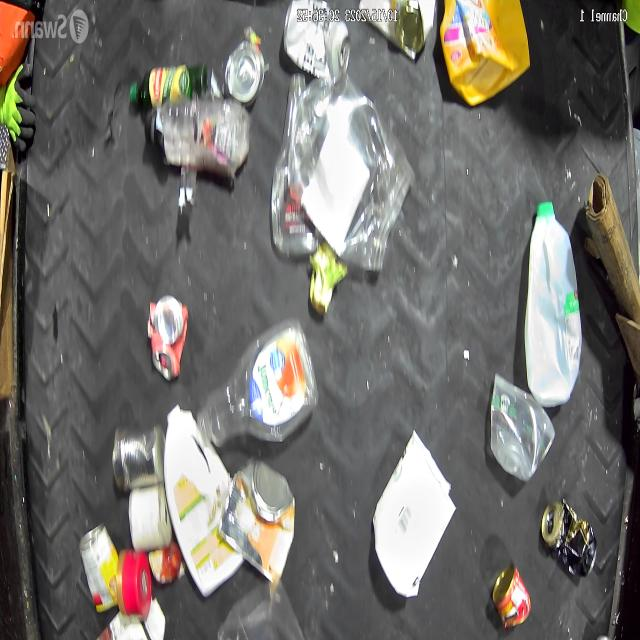can: (214, 457, 297, 592), (282, 0, 352, 90), (536, 500, 598, 588), (82, 520, 126, 621), (147, 282, 190, 385), (107, 420, 162, 500), (219, 22, 261, 120), (490, 560, 541, 640)
milk_jug: (514, 197, 584, 422)
non_white_jug: (437, 0, 533, 108)
plastic_bottle: (196, 313, 320, 448)
